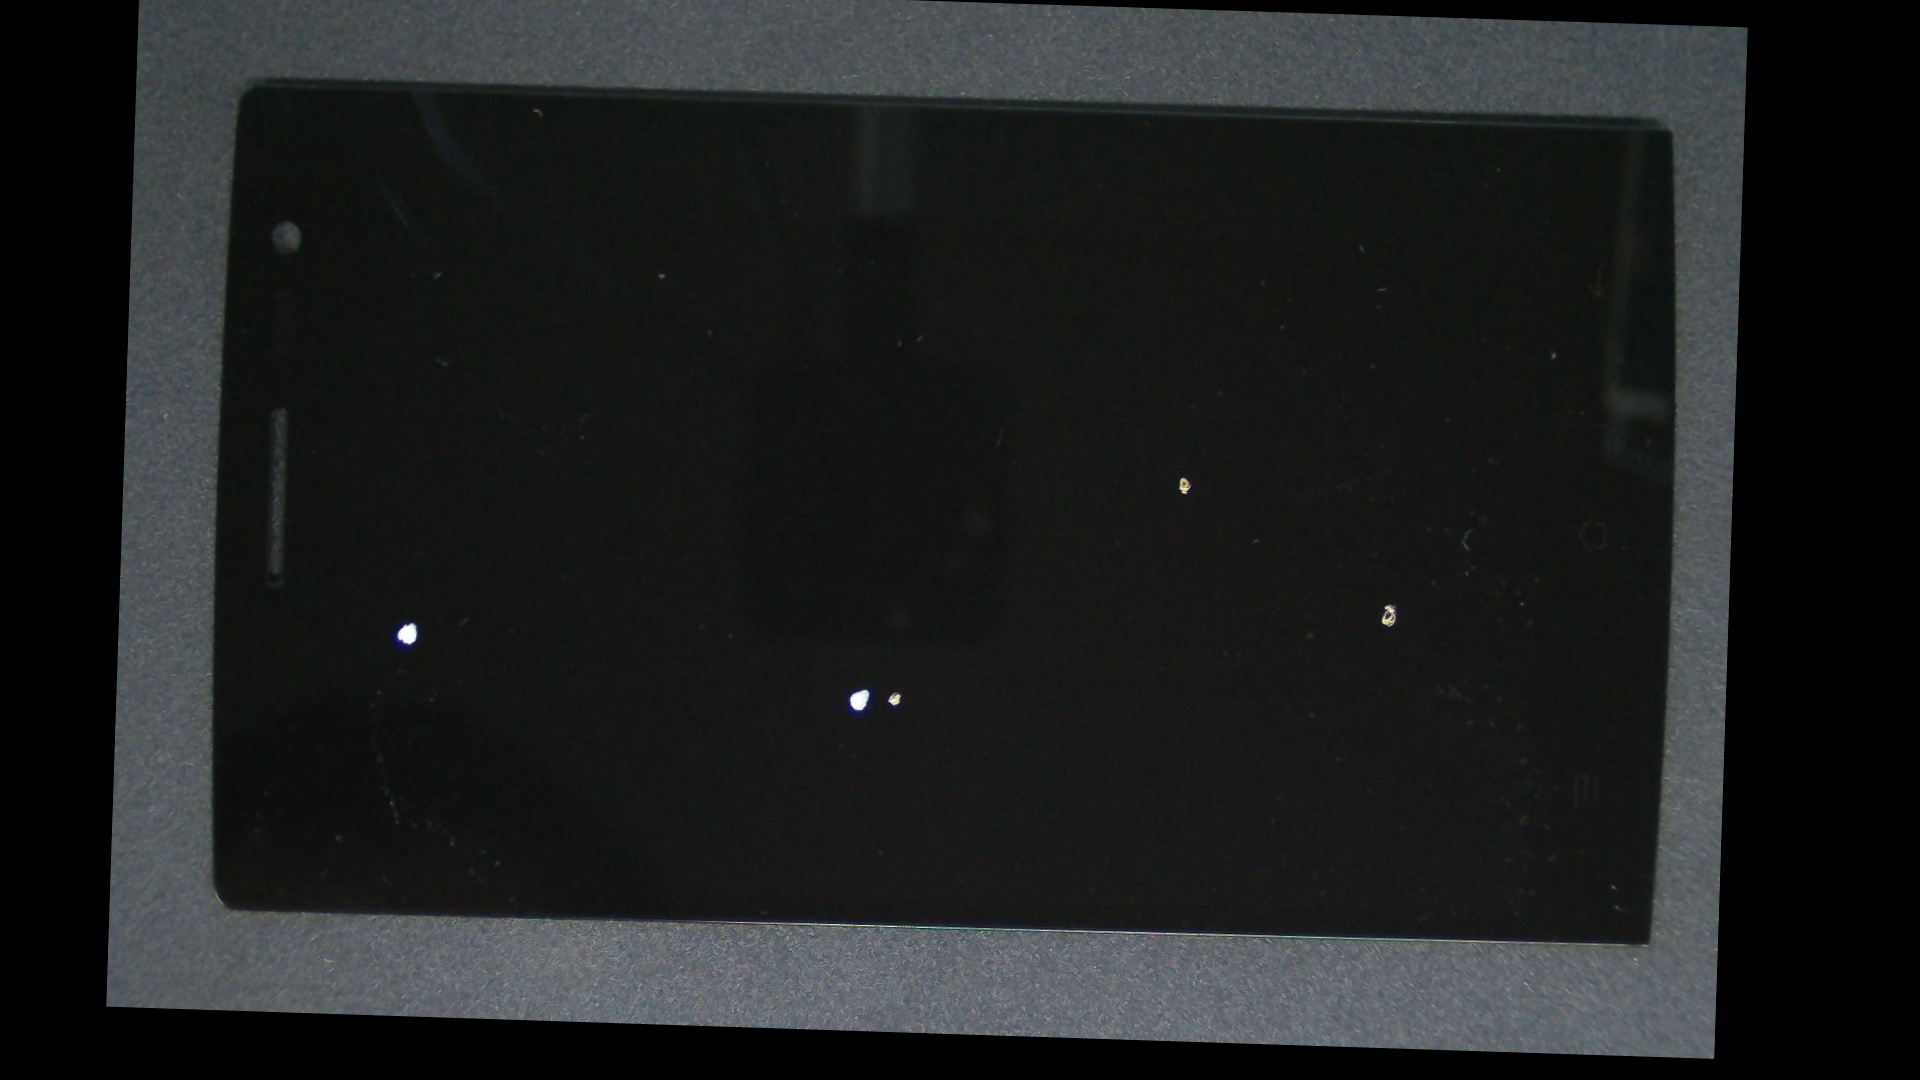oil: (746, 289, 1738, 907), (496, 332, 1294, 1044), (480, 331, 1246, 1043), (647, 224, 1718, 727), (256, 298, 568, 944)
